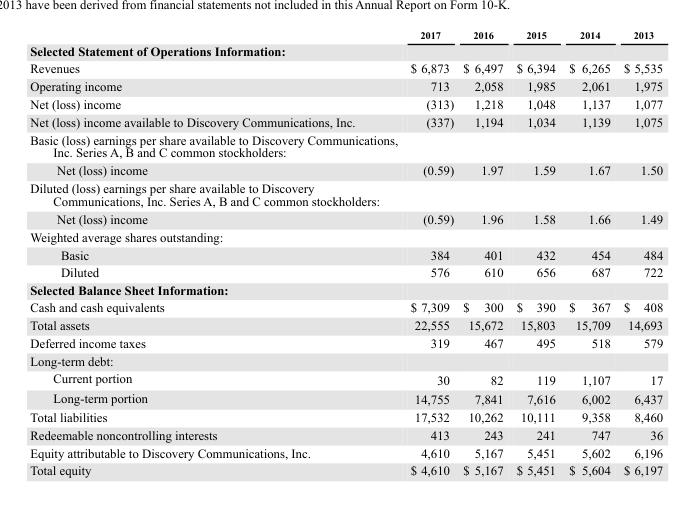table: (29, 29, 662, 477)
table column: (29, 29, 382, 477), (382, 29, 457, 477), (561, 29, 616, 477), (457, 29, 509, 477), (509, 29, 561, 477), (616, 29, 662, 477)
table column header: (29, 29, 662, 42)
table projected row header: (29, 178, 662, 209), (29, 130, 662, 160), (29, 227, 662, 245), (29, 280, 662, 298), (29, 351, 662, 369), (29, 42, 662, 59)
table row: (29, 178, 662, 209), (29, 130, 662, 160), (29, 369, 662, 388), (29, 388, 662, 407), (29, 76, 662, 94), (29, 94, 662, 112), (29, 112, 662, 130), (29, 160, 662, 178), (29, 209, 662, 227), (29, 227, 662, 245), (29, 245, 662, 263), (29, 280, 662, 298), (29, 315, 662, 333), (29, 333, 662, 351), (29, 351, 662, 369), (29, 407, 662, 425), (29, 425, 662, 443), (29, 443, 662, 461), (29, 42, 662, 59), (29, 59, 662, 76), (29, 263, 662, 280), (29, 298, 662, 315), (29, 461, 662, 477), (29, 29, 662, 42)
